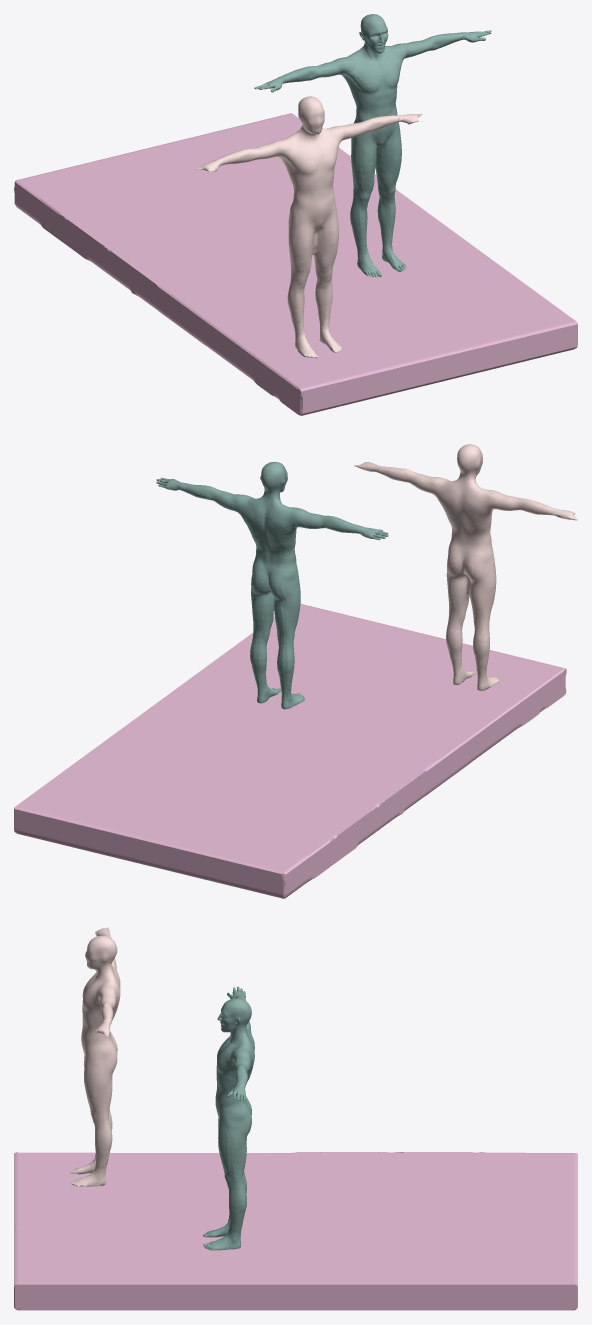
3 renders of one model, top to bottom at view 1: azimuth 30°, elevation 25°; view 2: azimuth 150°, elevation 25°; view 3: azimuth 270°, elevation 25°, orthographic. The views are drawn at different scales.
Parts seen in each view (by area): view 1: split_parent_0, split_parent_1, split_parent_2; view 2: split_parent_0, split_parent_2, split_parent_1; view 3: split_parent_0, split_parent_2, split_parent_1.
Boxes of the visible parts, x1=… form: split_parent_0: x1=14, y1=113, x2=577, y2=415; split_parent_1: x1=194, y1=96, x2=422, y2=358; split_parent_2: x1=254, y1=14, x2=491, y2=277; split_parent_0: x1=14, y1=604, x2=566, y2=898; split_parent_2: x1=156, y1=462, x2=388, y2=709; split_parent_1: x1=354, y1=444, x2=577, y2=690; split_parent_0: x1=14, y1=1152, x2=577, y2=1310; split_parent_2: x1=203, y1=986, x2=254, y2=1250; split_parent_1: x1=69, y1=927, x2=120, y2=1186.
Size of the model in its own units: 0.729 by 0.5244 by 1.
